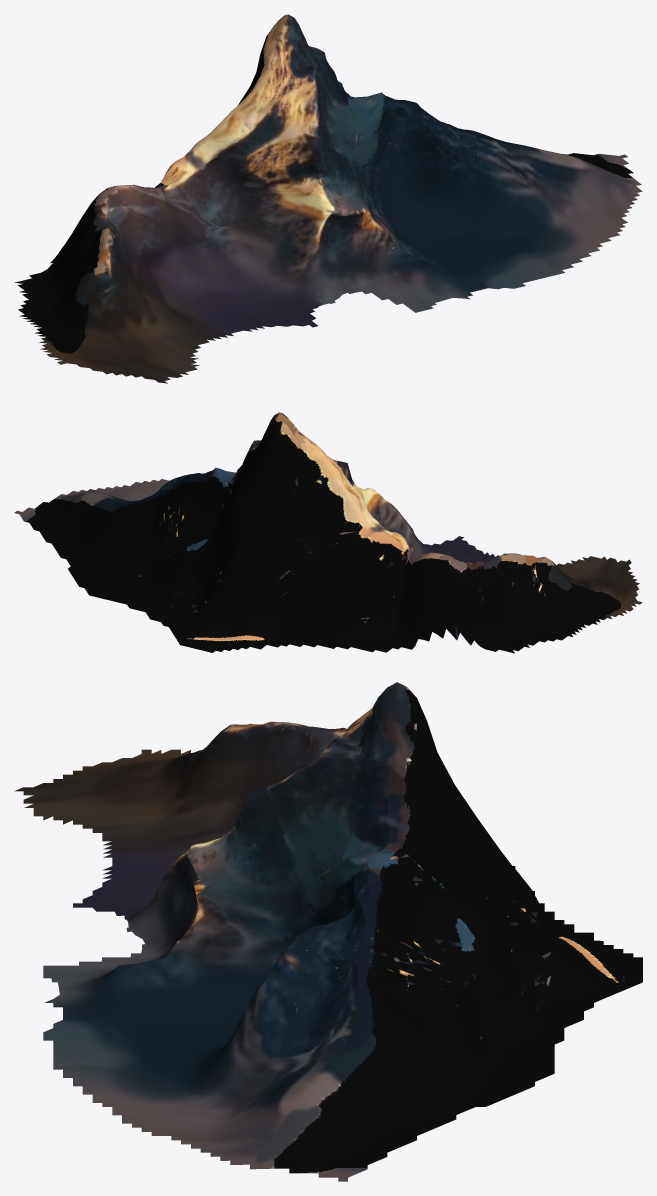
File: montañaa.fbx
3 renders of one model, top to bottom at view 1: azimuth 30°, elevation 25°; view 2: azimuth 150°, elevation 25°; view 3: azimuth 270°, elevation 25°, orthographic. The views are drawn at different scales.
Visible parts, largest first — view 1: Plane_0; view 2: Plane_0; view 3: Plane_0.
Part boxes in pixels (x1,y1,x2,y2): Plane_0: [15, 14, 642, 383]; Plane_0: [14, 412, 642, 653]; Plane_0: [14, 682, 642, 1181].
Size of the model in its own units: 1544 by 473 by 950.
1 material, 1 textured.
